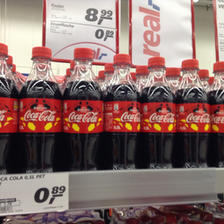soda: (19, 47, 62, 173), (62, 47, 103, 174), (104, 53, 142, 171), (141, 58, 175, 169), (174, 59, 208, 168)
